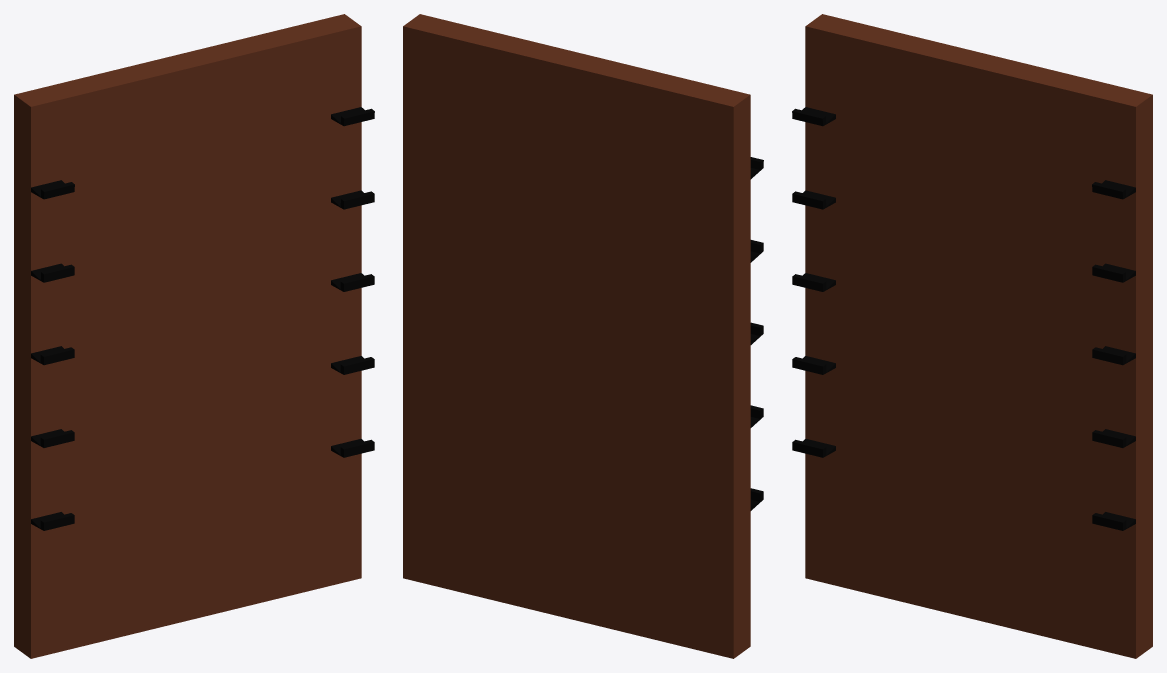
File: Weapon Rack.fbx
The picture shows the model from 3 angles, left to right: view 1: azimuth 30°, elevation 25°; view 2: azimuth 150°, elevation 25°; view 3: azimuth 330°, elevation 25°; orthographic projection.
Visible parts, largest first — view 1: Cube; view 2: Cube; view 3: Cube.
Part boxes in pixels (box(x1,y1,x2,y2)): Cube: box(14, 14, 374, 658); Cube: box(403, 14, 763, 658); Cube: box(792, 14, 1152, 658).
Bounding box in the file's own units: 99.46 × 159 × 15.74.
